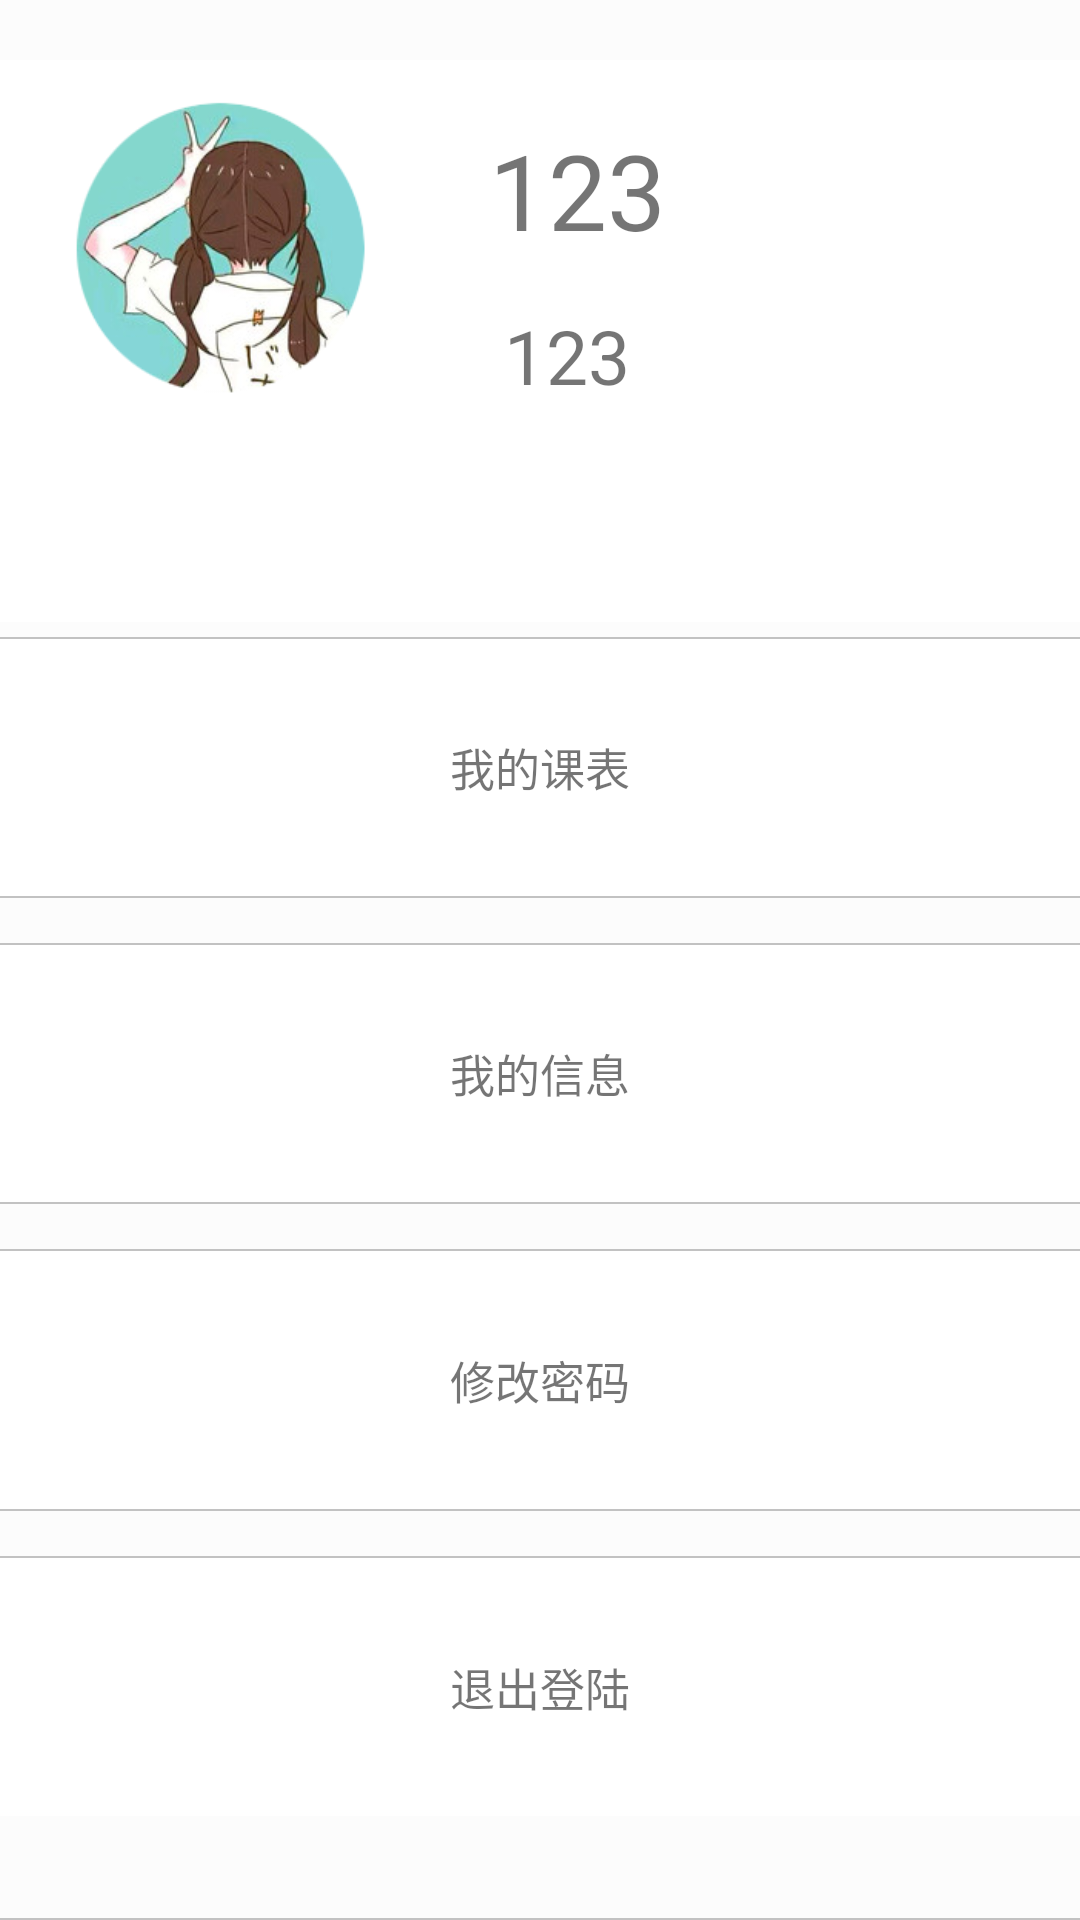

Where to tap for icons on this 1080 × 1920 app screen, as point (x, y):
touxiang: point (220, 248)
